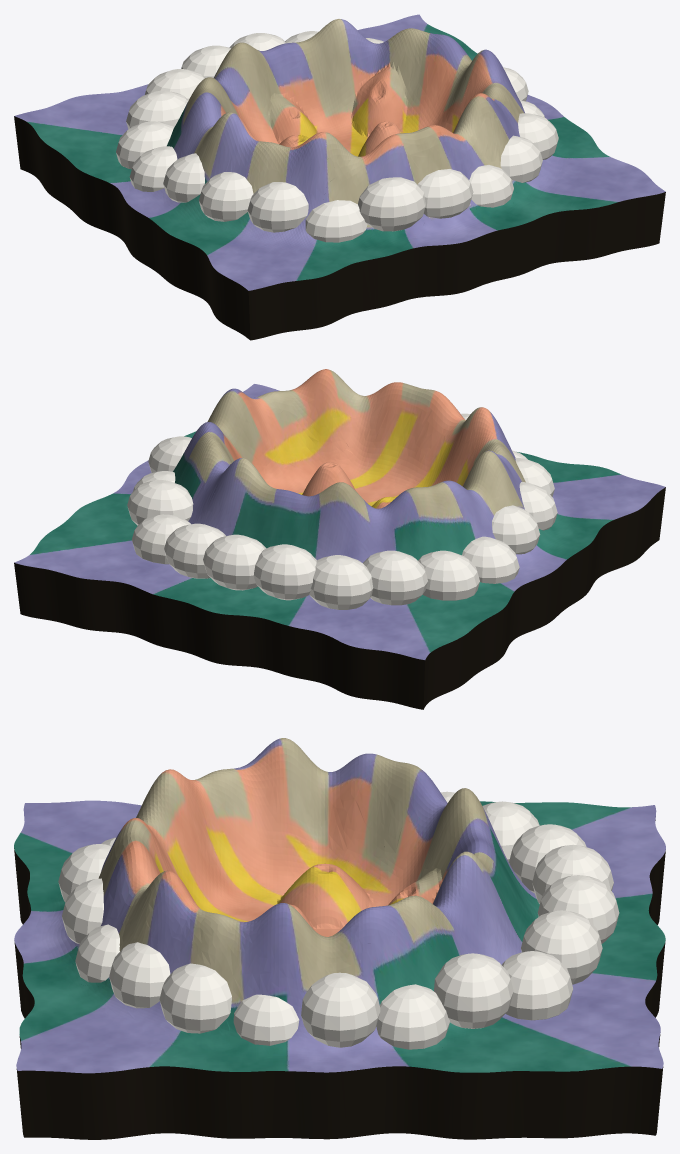
The model's file is maui-haleakala.glb.
3 views of the same model, one above another, from view 1: azimuth 30°, elevation 25°; view 2: azimuth 150°, elevation 25°; view 3: azimuth 270°, elevation 25° (orthographic). The views are drawn at different scales.
Bounding box in the file's own units: 0.8518 × 0.27 × 0.8611.
Materials: 1 (1 with a texture image).
